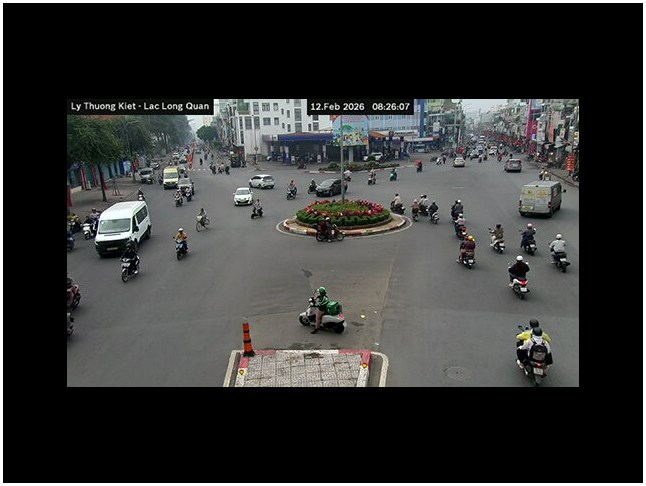car: (93, 199, 152, 259), (248, 174, 276, 190), (233, 187, 253, 207)
motorbike: (299, 288, 346, 334), (515, 335, 553, 382), (118, 247, 140, 283), (509, 271, 531, 300), (66, 276, 81, 311), (551, 252, 570, 273), (175, 239, 190, 260)
truck: (222, 319, 391, 384), (518, 180, 565, 218), (160, 166, 180, 190)
